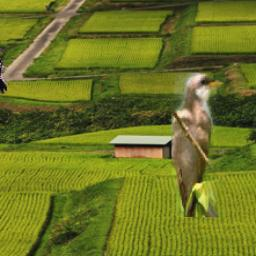Cuckoo: (173, 74, 227, 218)
Woodpecker: (0, 50, 8, 95)
